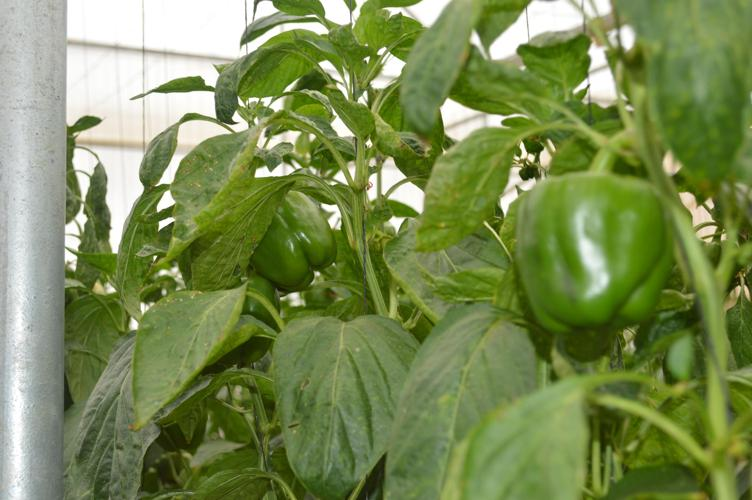BellPepper: (506, 172, 668, 327), (241, 188, 333, 283)
